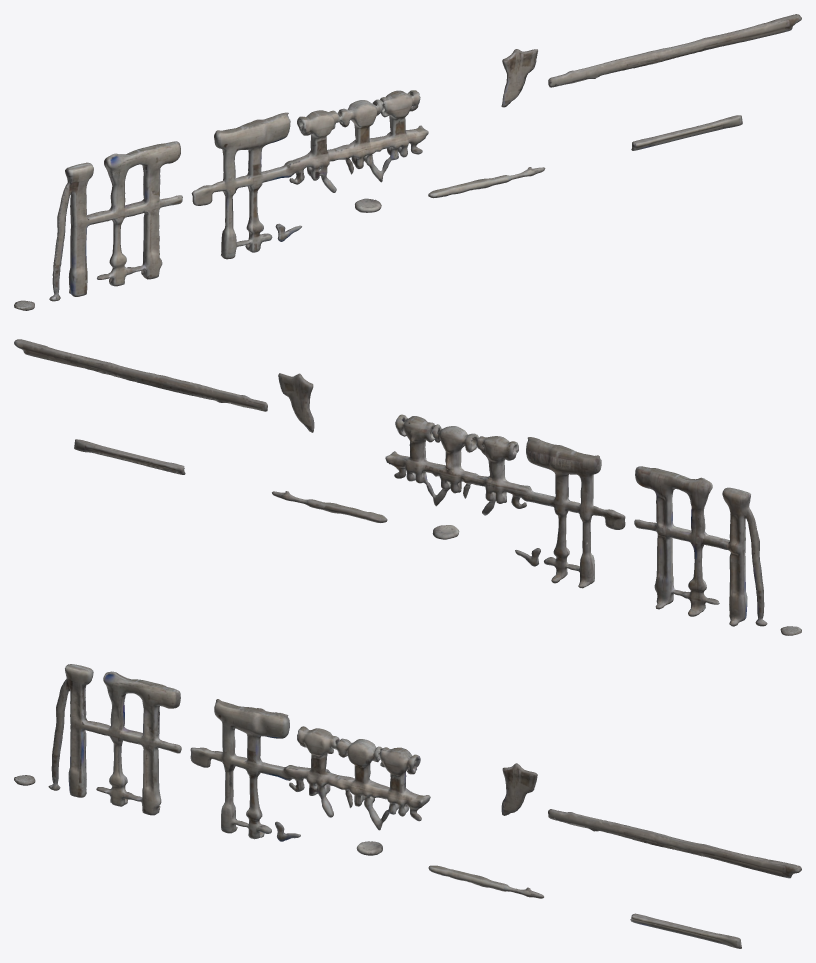
The picture shows the model from 3 angles, top to bottom: view 1: azimuth 30°, elevation 25°; view 2: azimuth 150°, elevation 25°; view 3: azimuth 330°, elevation 25°; orthographic projection.
Visible parts, largest first — view 1: file1; view 2: file1; view 3: file1.
Part boxes in pixels (<box>): file1: <box>14,14,801,310</box>; file1: <box>14,339,801,635</box>; file1: <box>14,664,801,948</box>.
Bounding box in the file's own units: 1.97 × 0.3371 × 0.0637.
1 material, 1 textured.
